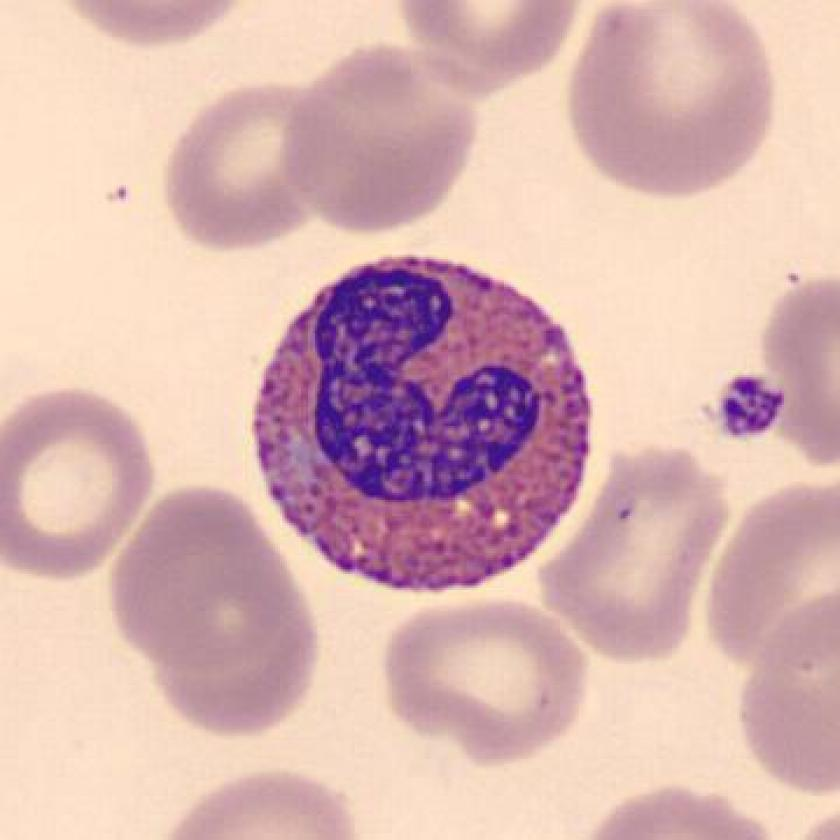eosinophil: (241, 244, 603, 603)
